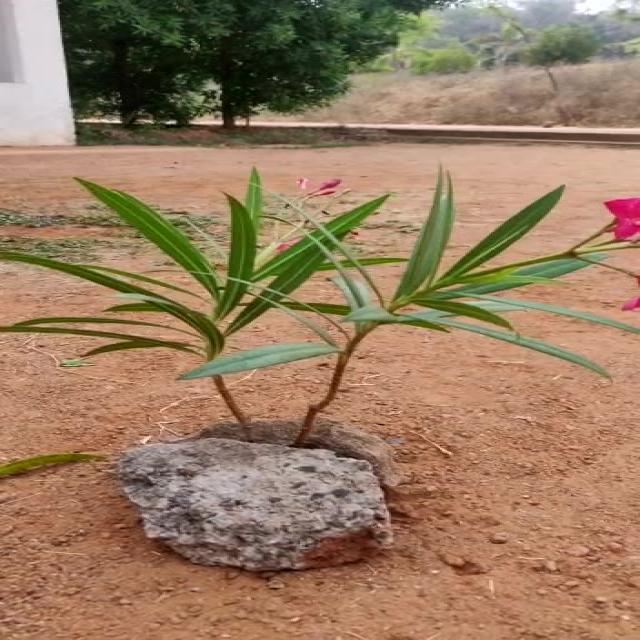Oleander: (24, 158, 637, 422)
